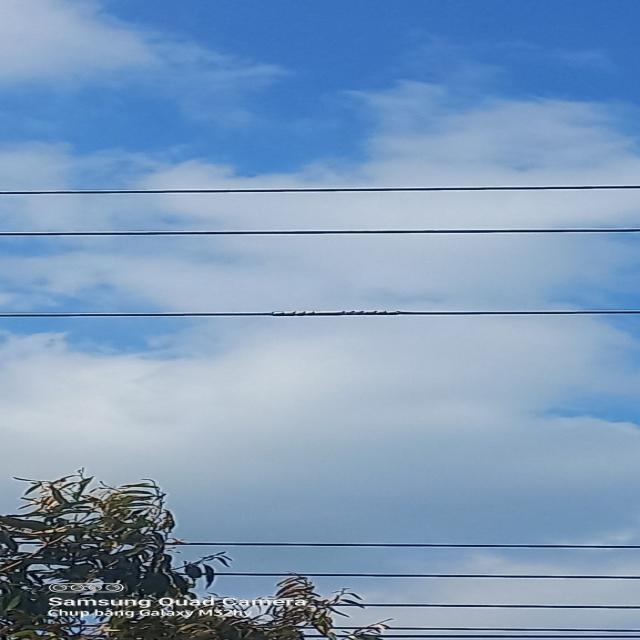wire: (0, 184, 640, 196), (0, 540, 640, 551), (30, 570, 639, 581), (66, 622, 640, 632), (328, 603, 640, 610), (304, 634, 640, 639)
